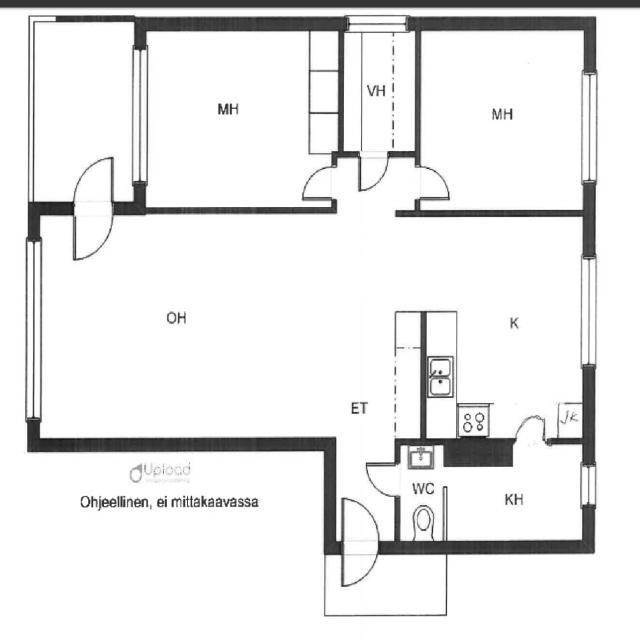door: (67, 151, 117, 264), (336, 493, 382, 590), (361, 455, 407, 503), (508, 409, 552, 452), (296, 162, 341, 203), (412, 161, 453, 202), (356, 149, 390, 195)
window: (18, 234, 54, 428), (126, 44, 155, 192), (576, 65, 604, 192), (576, 248, 602, 372), (344, 11, 413, 33), (579, 463, 598, 510)
zone: (38, 206, 420, 444), (424, 217, 588, 447), (141, 28, 342, 212), (416, 26, 592, 215), (25, 14, 138, 210), (398, 444, 589, 551), (340, 25, 418, 157)
